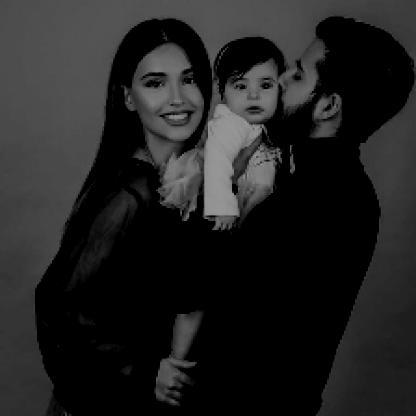child: (192, 38, 287, 242)
